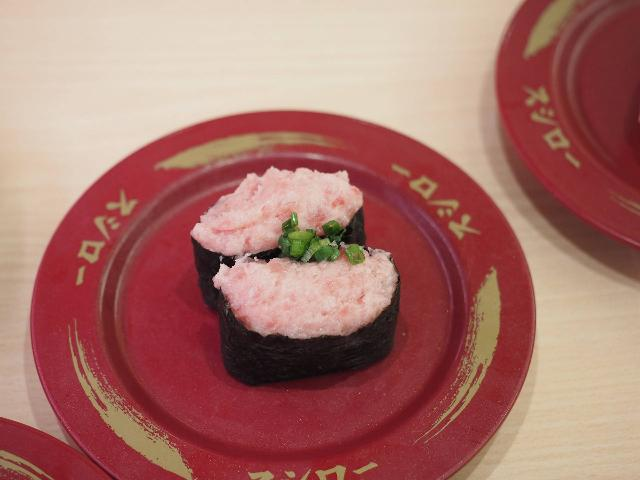janred: (71, 121, 493, 465), (513, 0, 640, 258), (13, 425, 126, 480)
